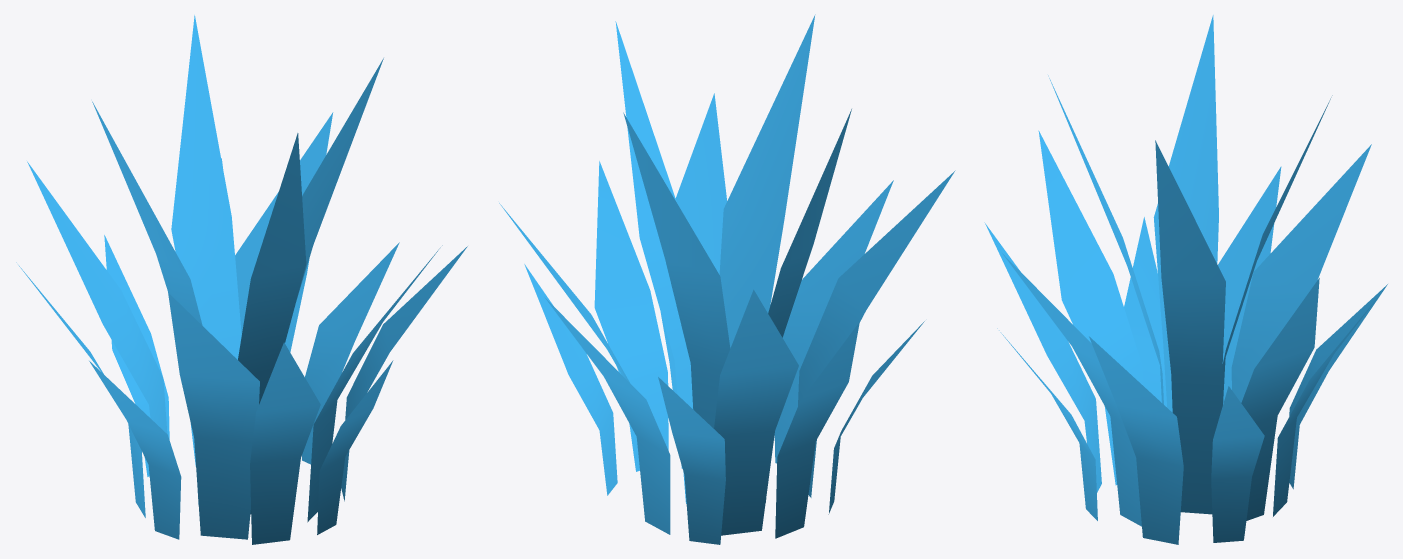
The model's file is grass_01.glb.
3 views of the same model, side by side, from view 1: azimuth 30°, elevation 25°; view 2: azimuth 150°, elevation 25°; view 3: azimuth 270°, elevation 25° (orthographic). The views are drawn at different scales.
Visible parts, largest first — view 1: grass_blue; view 2: grass_blue; view 3: grass_blue.
Boxes of the visible parts, x1=… form: grass_blue: x1=16, y1=15, x2=467, y2=544; grass_blue: x1=499, y1=14, x2=955, y2=544; grass_blue: x1=984, y1=15, x2=1387, y2=544.
Size of the model in its own units: 0.8916 by 1.03 by 0.8887.
